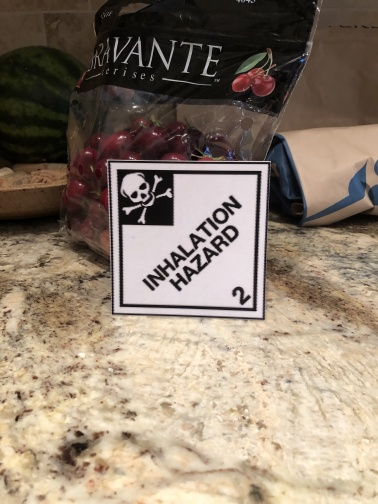InhalationHazard: (106, 158, 271, 321)
